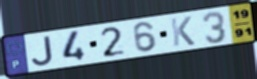2: (99, 26, 127, 59)
3: (201, 10, 227, 45)
4: (60, 29, 90, 65)
6: (131, 21, 158, 54)
J: (31, 35, 56, 67)
K: (168, 15, 197, 48)
